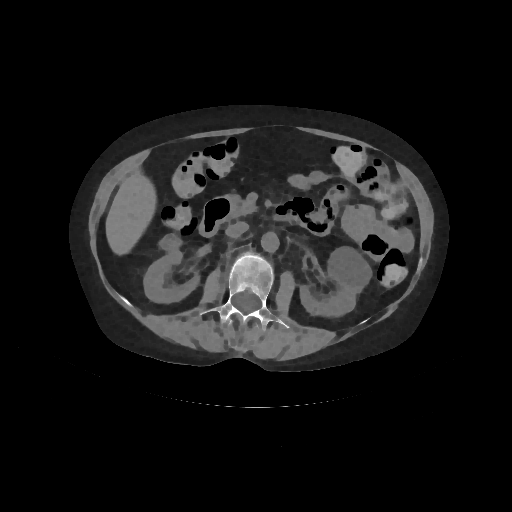Lesion: (323, 240, 374, 293)
